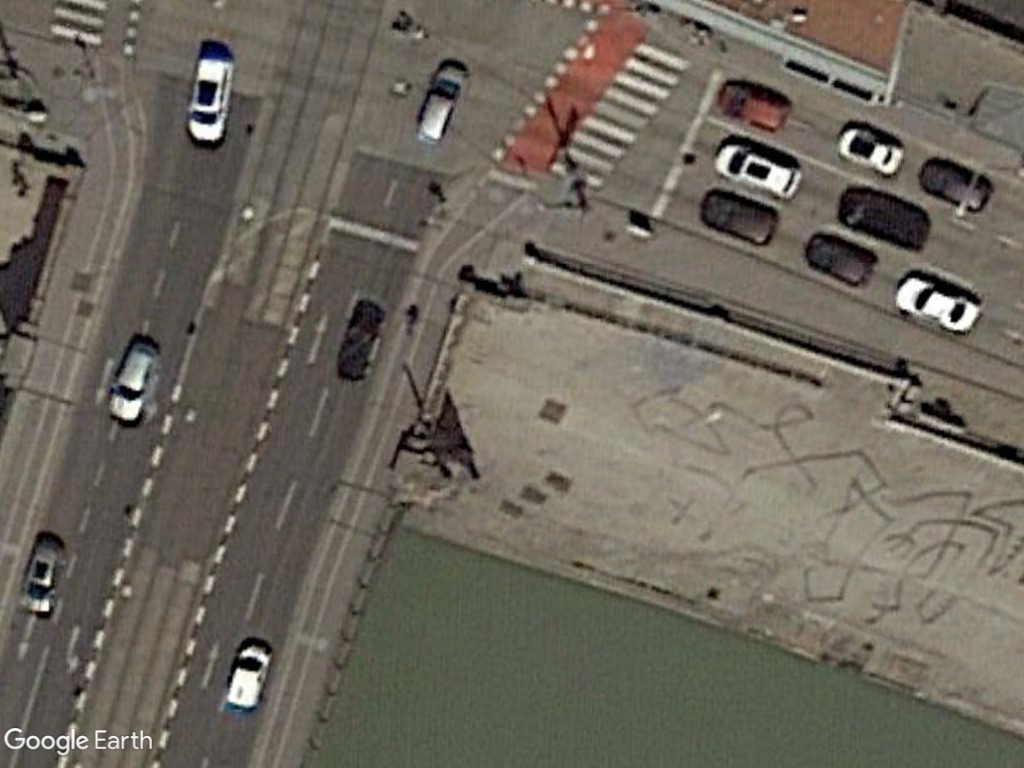car: (714, 139, 801, 202), (895, 274, 985, 334), (700, 187, 781, 251), (104, 342, 163, 426), (715, 79, 793, 137), (413, 61, 467, 144), (807, 227, 875, 291), (833, 123, 909, 176)
van: (182, 52, 234, 150), (223, 641, 275, 715)
